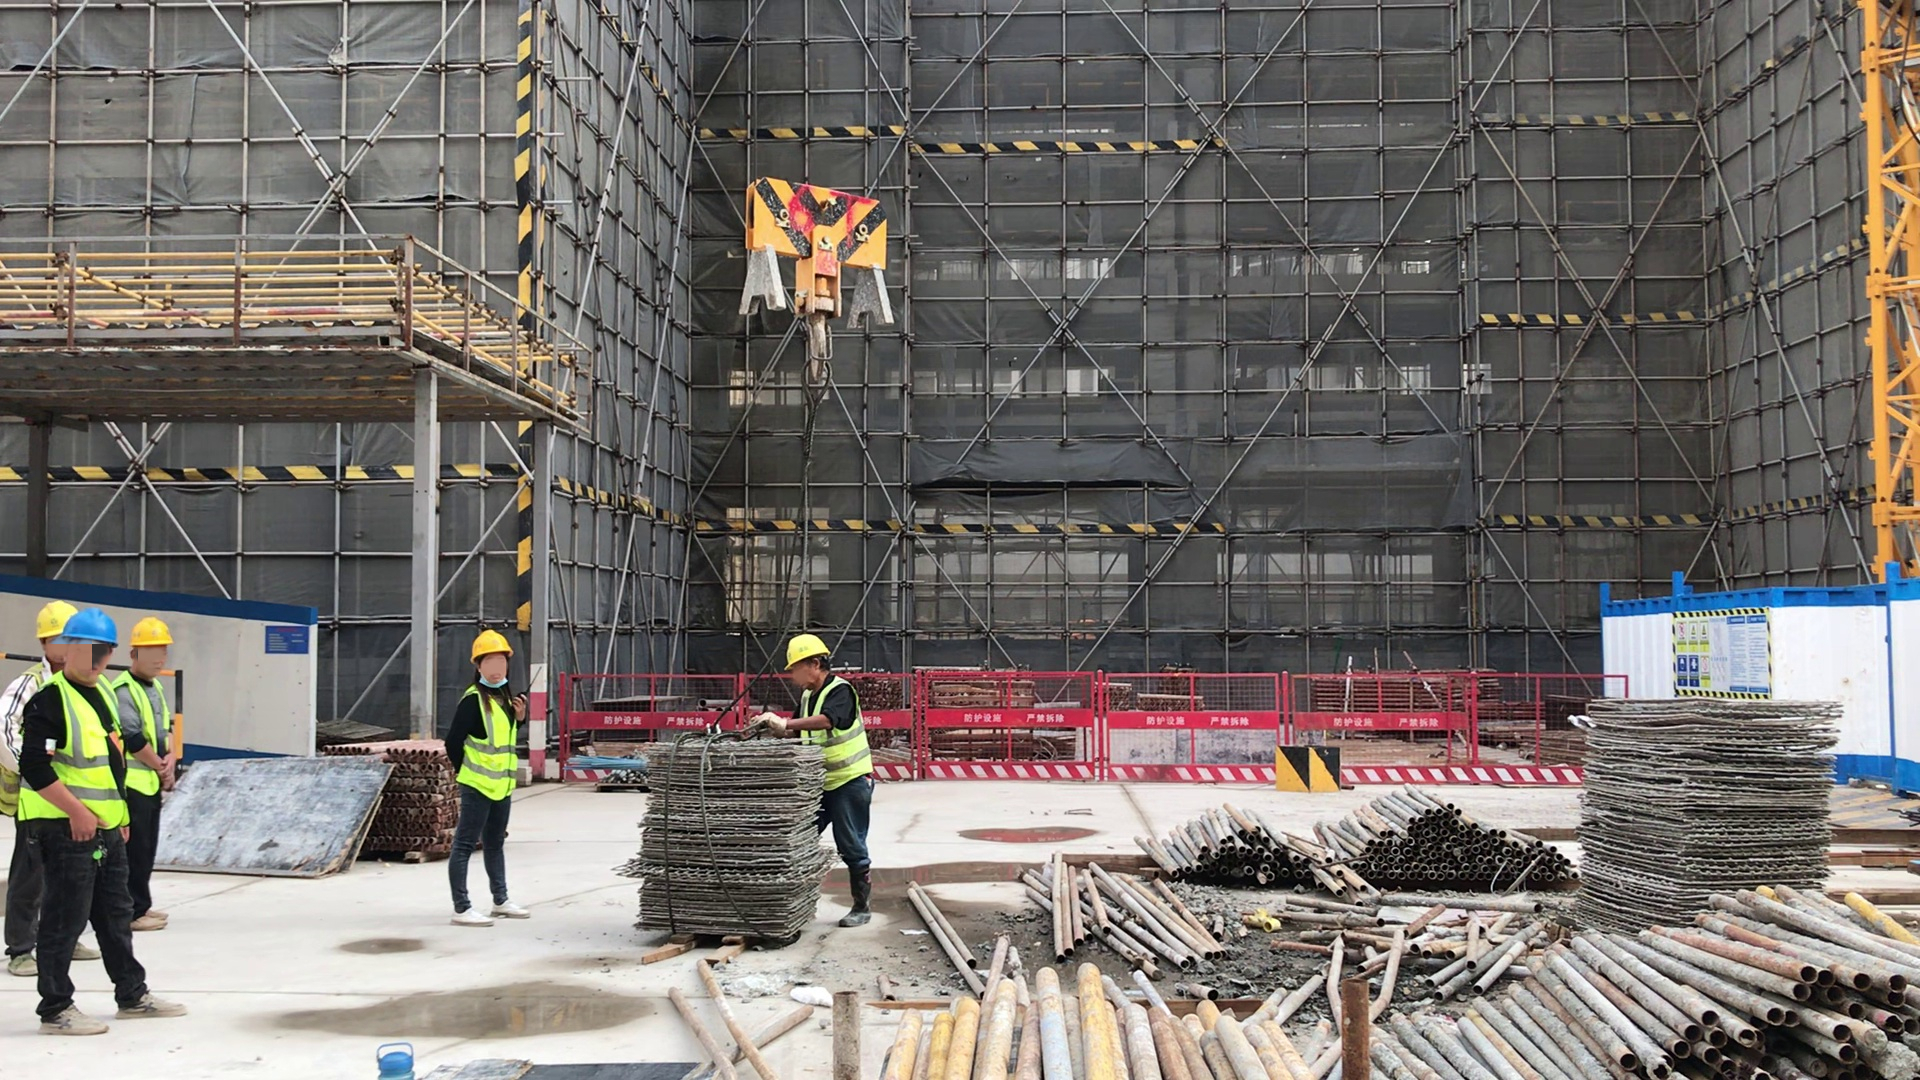fence: (554, 672, 1629, 788)
helmet: (62, 601, 120, 645), (36, 597, 77, 639), (786, 631, 831, 670), (129, 614, 171, 649), (467, 629, 516, 658)
hook: (738, 176, 898, 389)
person: (19, 607, 189, 1037), (1, 601, 101, 977), (753, 643, 874, 928), (446, 629, 533, 927), (110, 616, 180, 931)
scaffold: (1579, 701, 1835, 920), (638, 743, 821, 941), (381, 741, 452, 856)
vest: (20, 672, 129, 827), (794, 683, 874, 792), (456, 687, 521, 804), (112, 673, 171, 796)
